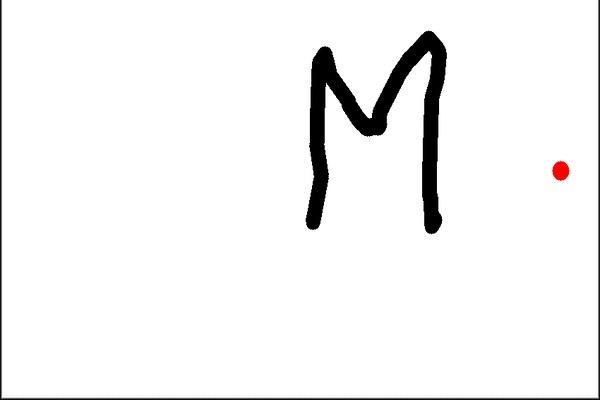M: (298, 26, 445, 233)
